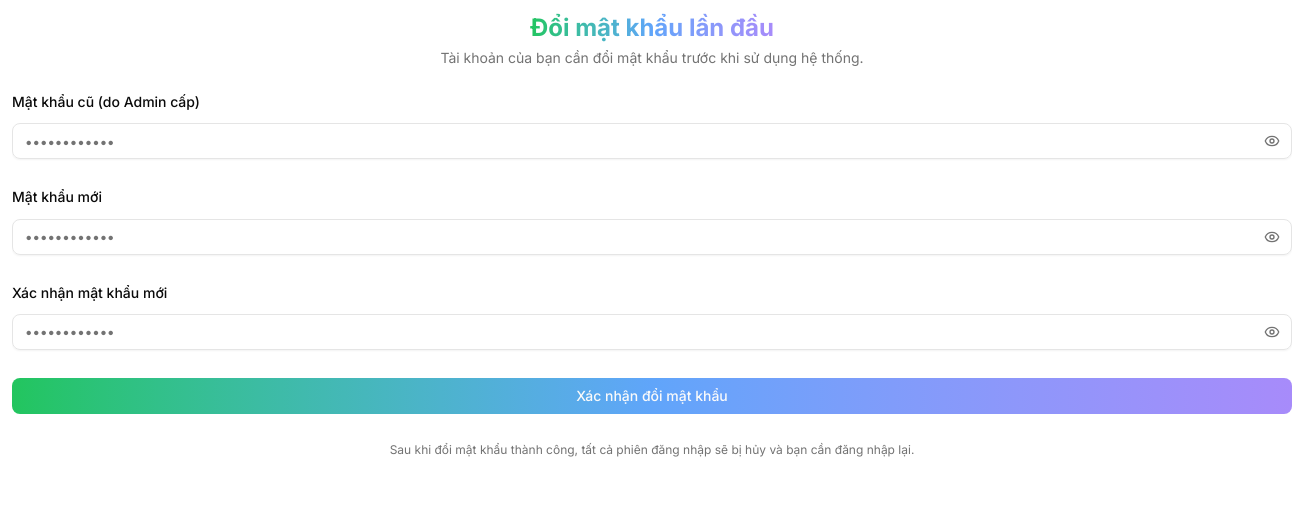
Test: <ChangePasswordForm /> › enforces password strength rules on the new password
Type "oldpass" into the password field labelled "Mật khẩu cũ (do Admin cấp)" at {"x": 652, "y": 141}, box [12, 123, 1292, 159]
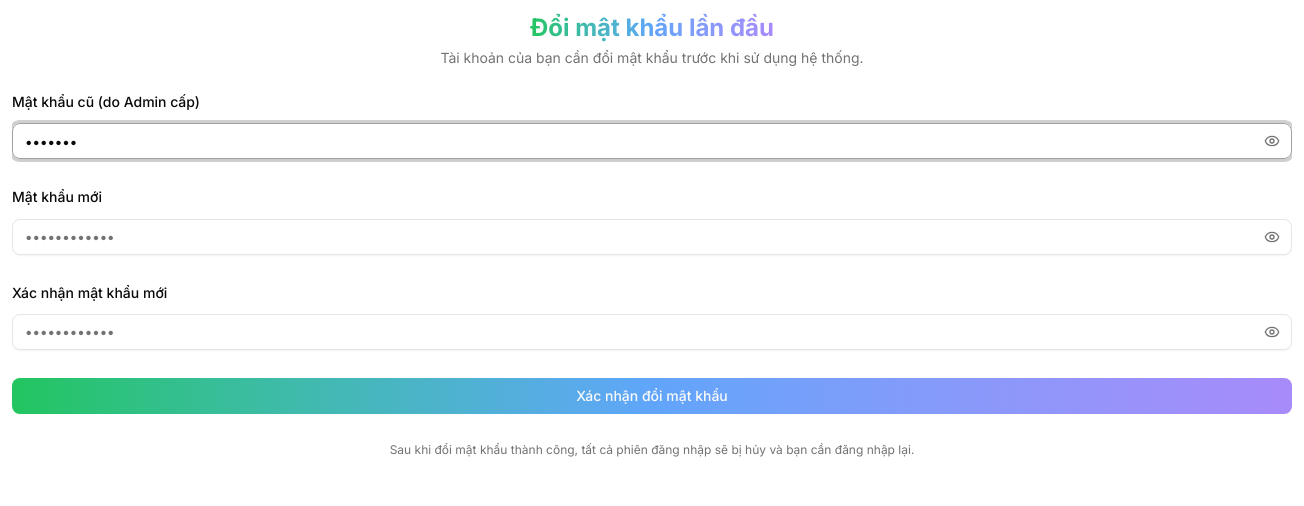
Type "weak" into the password field labelled "Mật khẩu mới" at {"x": 652, "y": 236}, box [12, 218, 1292, 254]
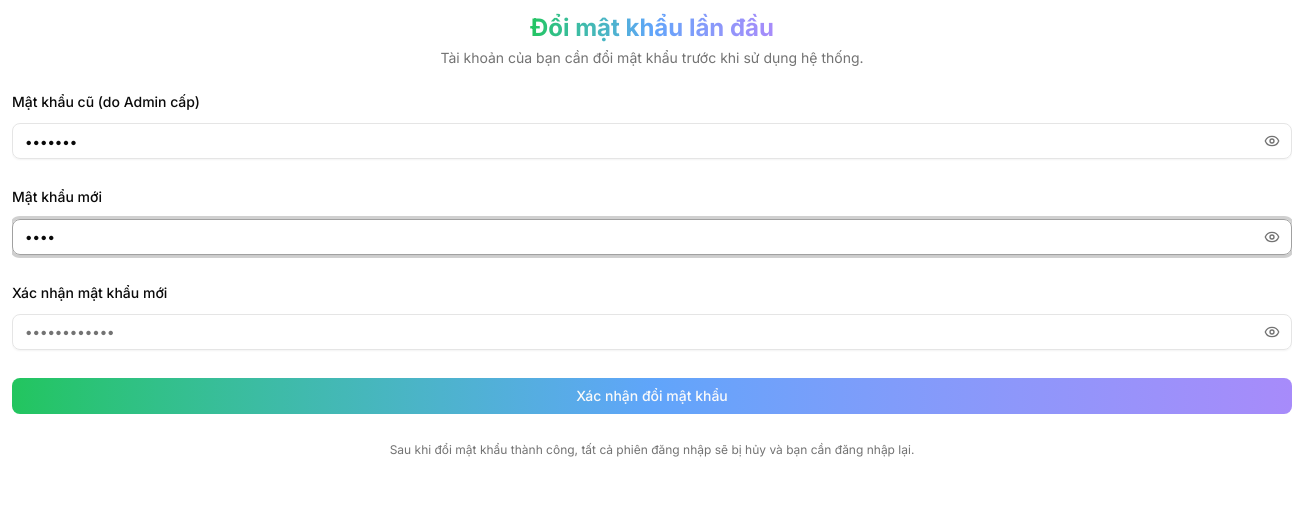
Type "weak" into the password field labelled "Xác nhận mật khẩu mới" at {"x": 652, "y": 332}, box [12, 314, 1292, 350]
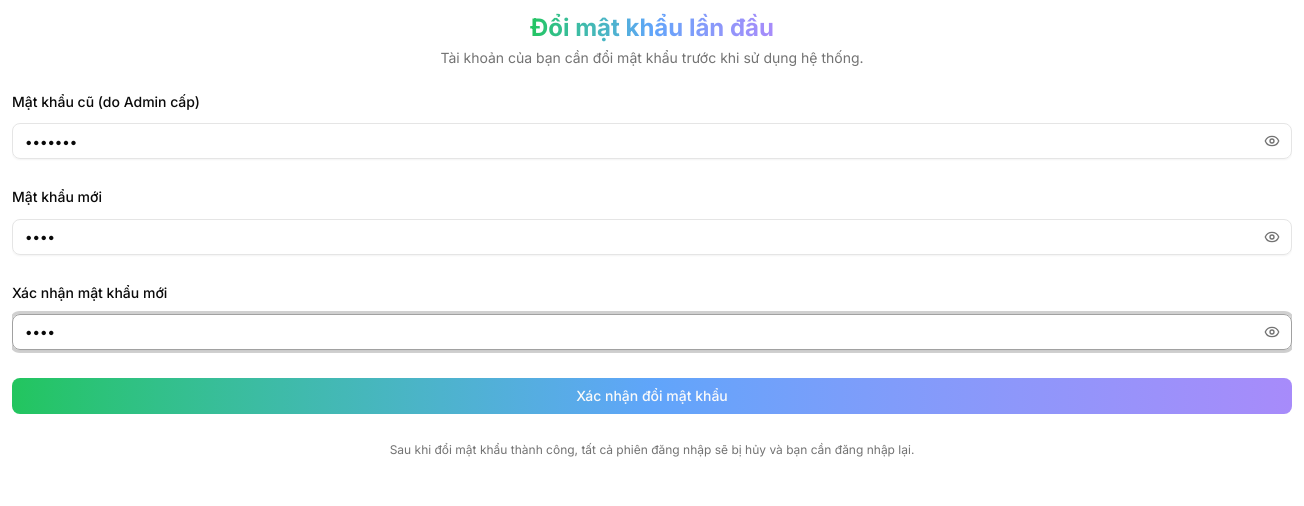
Click the button "Xác nhận đổi mật khẩu" at {"x": 652, "y": 396}, box [12, 378, 1292, 414]
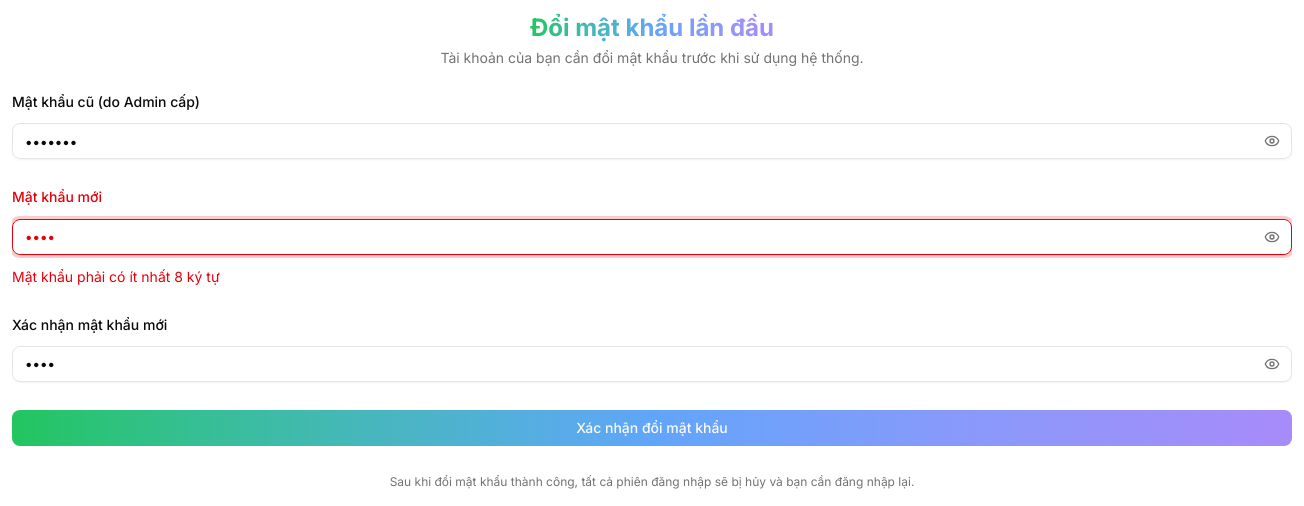
Result: the text "Mật khẩu phải có ít nhất 8 ký tự" is shown at [12, 268, 220, 284]
